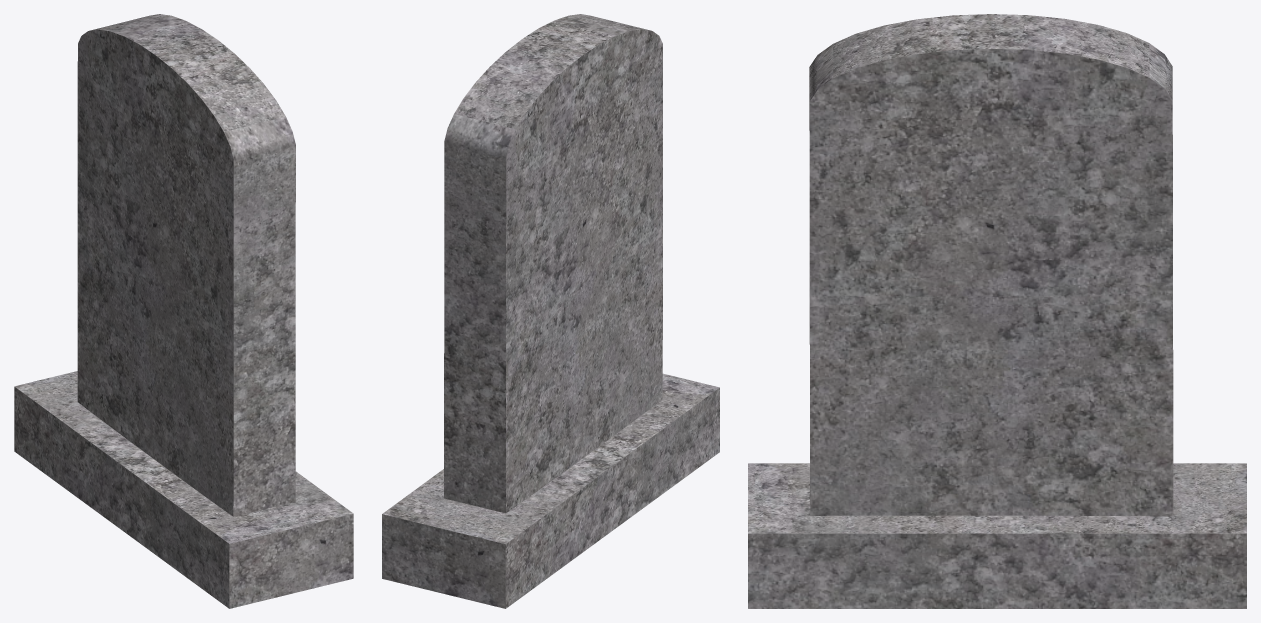
Rendered from TombstoneGeneric_3.fbx.
The picture shows the model from 3 angles, left to right: view 1: azimuth 30°, elevation 25°; view 2: azimuth 150°, elevation 25°; view 3: azimuth 270°, elevation 25°; orthographic projection. The views are drawn at different scales.
Visible parts, largest first — view 1: polySurface25; view 2: polySurface25; view 3: polySurface25.
Boxes of the visible parts, x1=… form: polySurface25: x1=14, y1=14, x2=353, y2=608; polySurface25: x1=382, y1=14, x2=719, y2=608; polySurface25: x1=748, y1=14, x2=1246, y2=608.
Bounding box in the file's own units: 10 × 36.05 × 30.
Materials: 1 (1 with a texture image).
